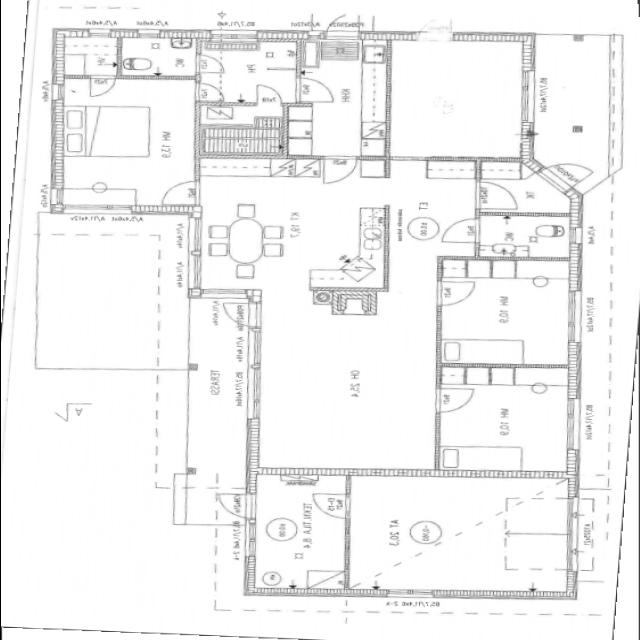door: (528, 160, 590, 190), (469, 182, 525, 212), (433, 384, 479, 420), (315, 151, 357, 189), (290, 73, 334, 109), (436, 216, 481, 250), (156, 177, 204, 207), (312, 491, 354, 523), (432, 279, 476, 309), (213, 491, 261, 517), (247, 84, 284, 110), (85, 75, 119, 98)
window: (554, 493, 580, 580), (244, 327, 264, 422), (515, 63, 540, 131), (561, 287, 585, 344), (565, 395, 586, 456), (57, 203, 131, 219), (238, 520, 258, 558), (204, 30, 270, 41), (376, 589, 434, 600), (47, 81, 69, 105), (563, 227, 585, 250), (135, 27, 168, 39), (45, 184, 62, 204), (82, 31, 114, 41)
